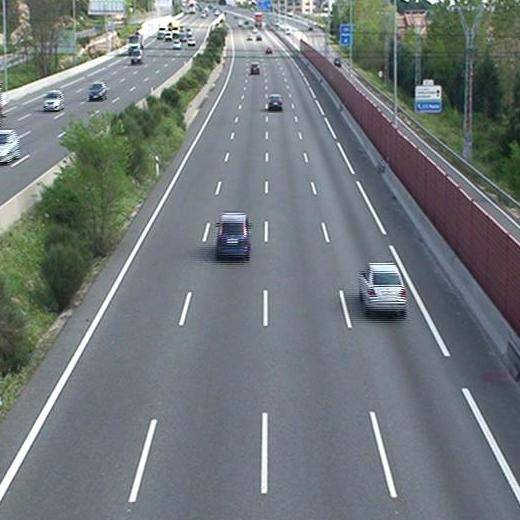car: (358, 261, 408, 316), (215, 211, 251, 258), (267, 93, 283, 109), (250, 62, 260, 74)
